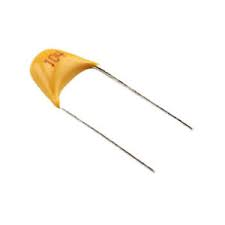ceramic capacitor: (16, 38, 133, 152)
